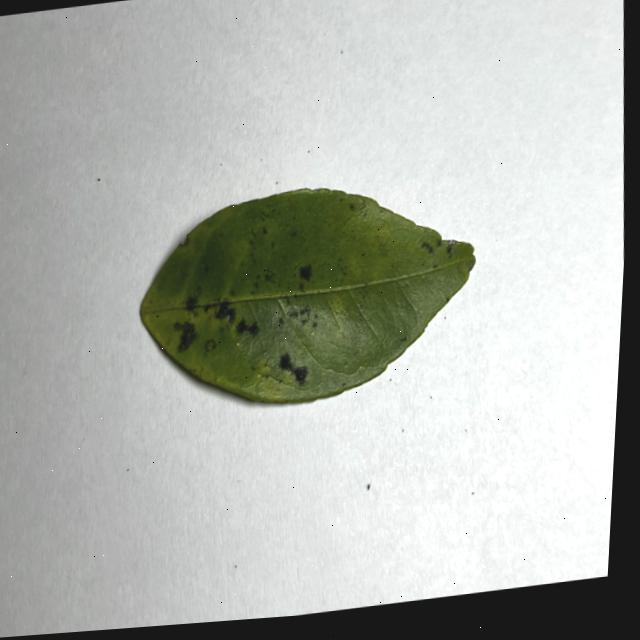sooty_mold: (141, 190, 475, 402)
